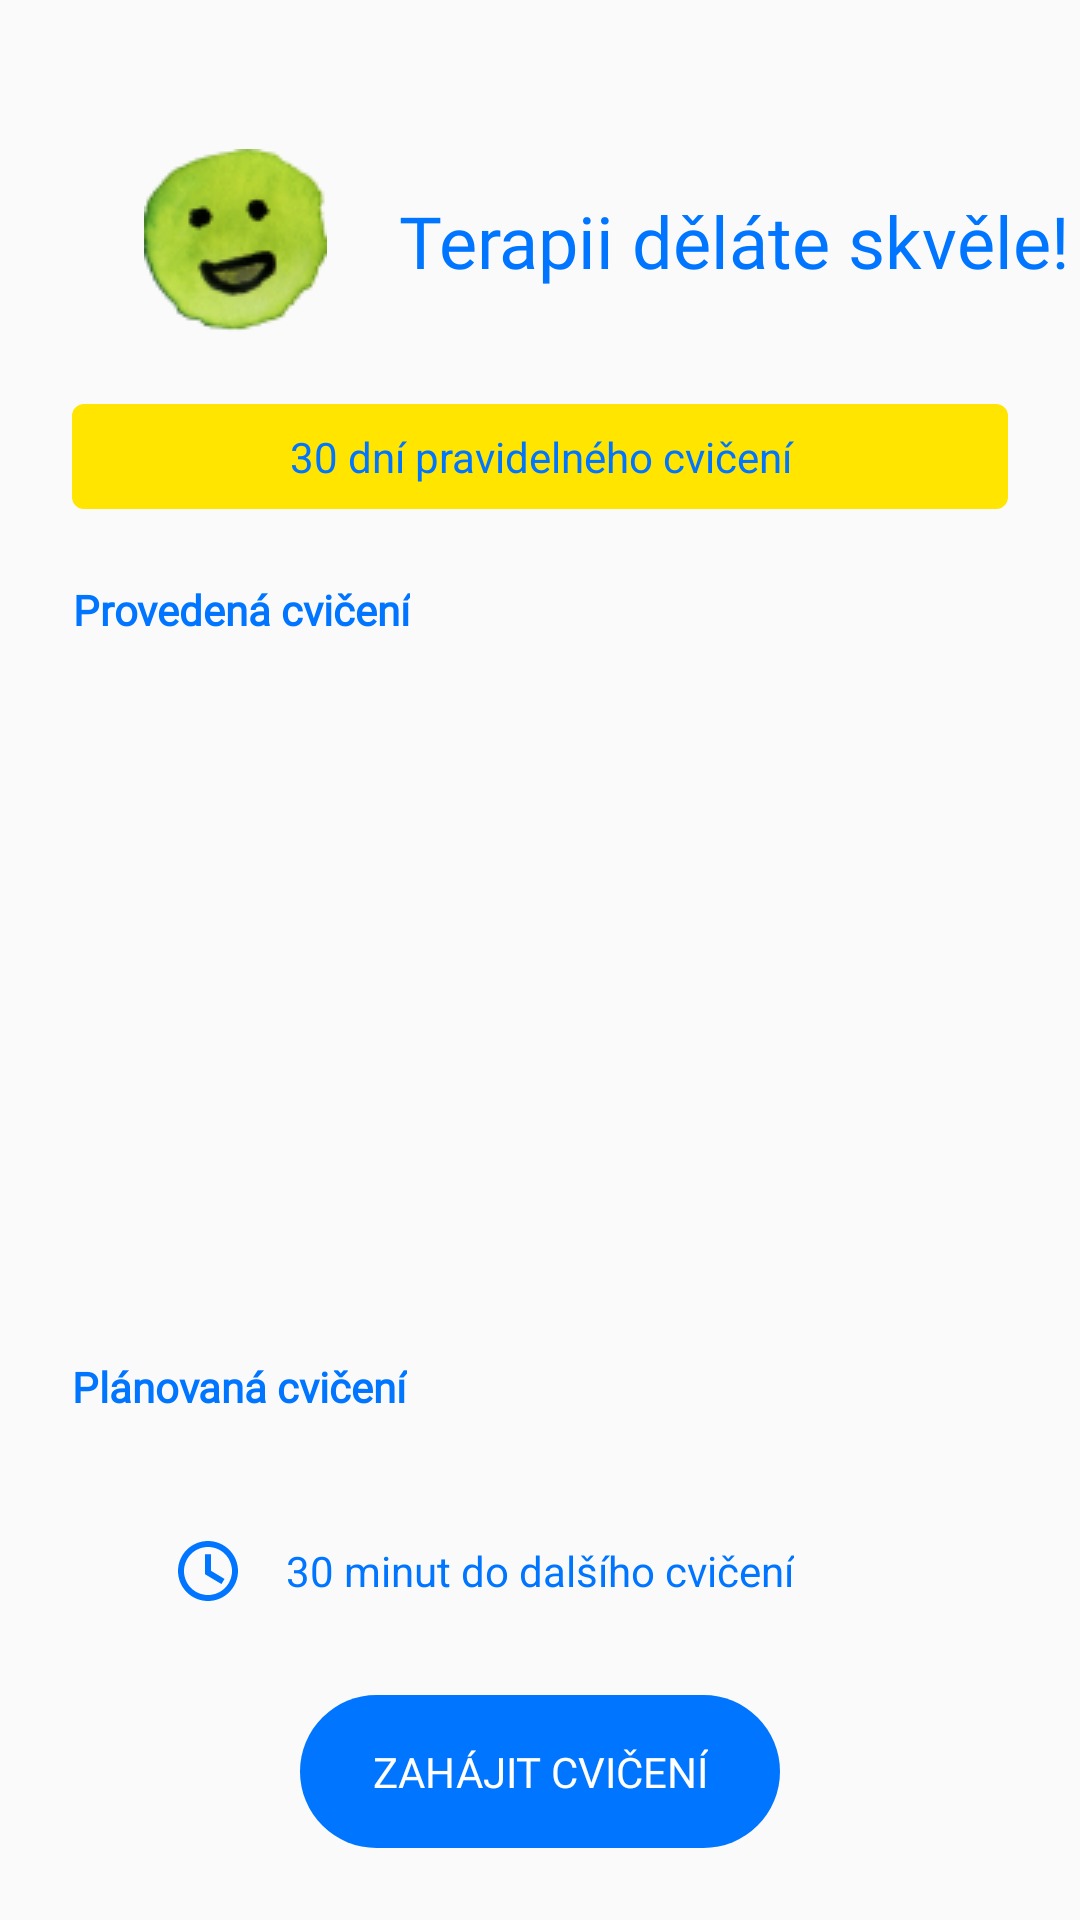

Named icons in this screenshot (1080w x 1920h) and their centers, (x,y):
clock: (208,1571)
smilepng: (235,239)
